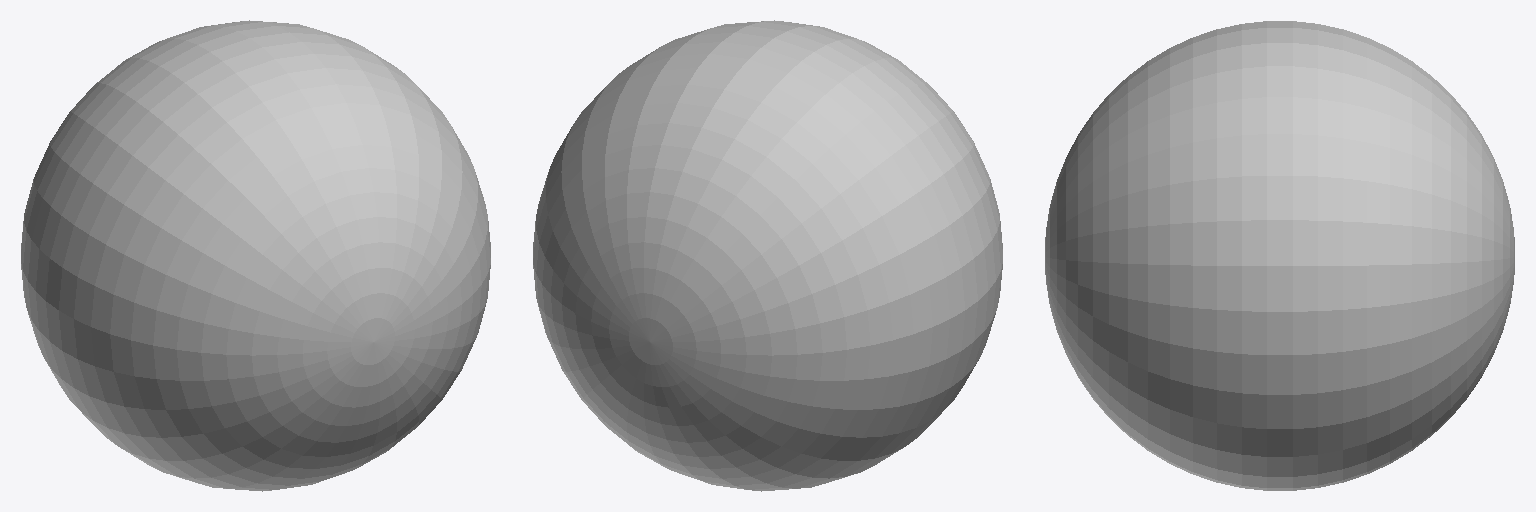
robot.urdf — urdf_robot:
<?xml version="1.0" ?>
<robot name="urdf_robot">
  <link name="baseLink">
  	<contact>
      <rolling_friction value="0.03"/>
      <spinning_friction value="0.03"/>
    </contact>

    <inertial>
      <origin rpy="0 0 0" xyz="0 0 0"/>
       <mass value="10.0"/>
       <inertia ixx="1" ixy="0" ixz="0" iyy="1" iyz="0" izz="1"/>
    </inertial>
    <visual>
      <origin rpy="0 0 0" xyz="0 0 0"/>
      <geometry>
				<mesh filename="sphere_smooth.obj" scale="0.5 0.5 0.5"/>
      </geometry>
      <material name="red">
        <color rgba="0.8 0.8 0.8 1"/>
        <specular rgb="0.8 0.8 0.8"/>
      </material>
    </visual>
    <collision>
      <origin rpy="0 0 0" xyz="0 0 0"/>
      <geometry>
	 <sphere radius="0.5"/>
      </geometry>
    </collision>
  </link>
</robot>

--- Facts derived from the render (not from the file) ---
Views: 3 orthographic renders of the robot side by side, from view 1: azimuth 30°, elevation 25°; view 2: azimuth 150°, elevation 25°; view 3: azimuth 270°, elevation 25°.
Model urdf_robot with 1 links and 0 joints (none), rooted at baseLink, posed every joint at zero.
Visible links, largest first — view 1: baseLink; view 2: baseLink; view 3: baseLink.
Boxes of the visible links, x1=… form: baseLink: x1=21, y1=20, x2=490, y2=491; baseLink: x1=533, y1=20, x2=1002, y2=491; baseLink: x1=1045, y1=21, x2=1514, y2=490.
Size in the robot's own frame: 0.9985 by 1 by 0.9985 metres.
1 mesh visuals loaded from 1 distinct referenced files (1 OBJ).